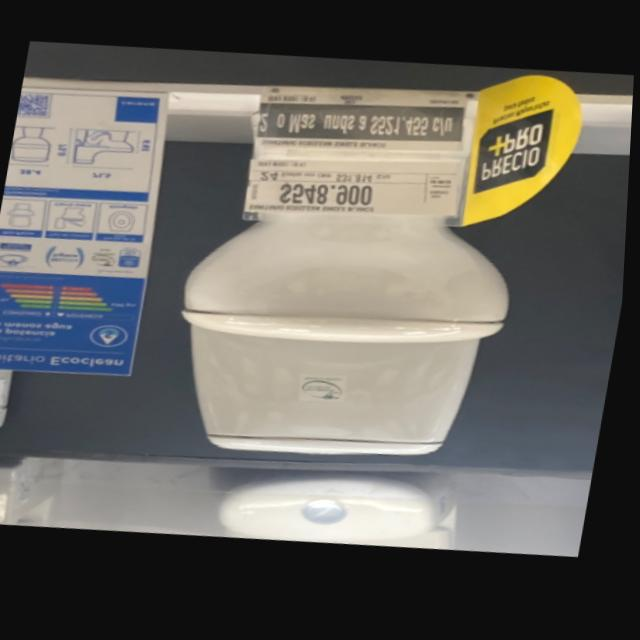toilet: (157, 188, 528, 490)
